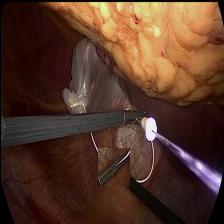Grasper: (97, 147, 129, 185), (119, 103, 150, 129)
Specimen Bag: (60, 34, 132, 119)
